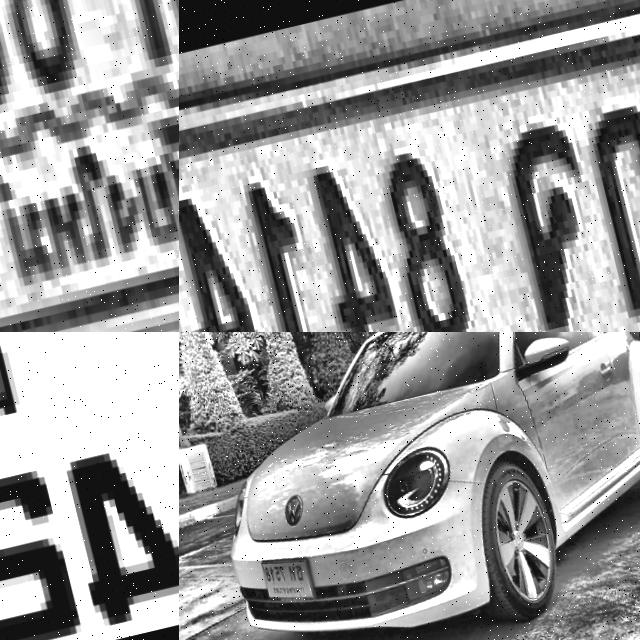license-plate: (179, 0, 640, 332), (0, 0, 179, 332), (0, 332, 179, 640), (255, 549, 318, 611)
